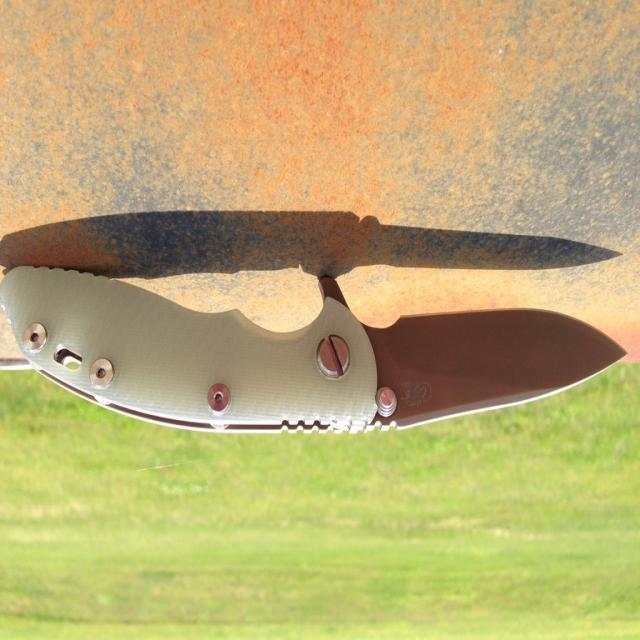Knife: (0, 266, 625, 431)
